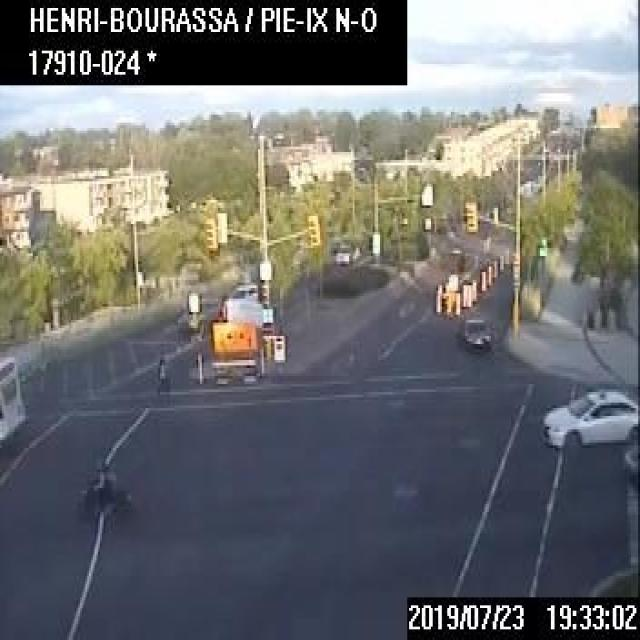bus: (0, 352, 25, 442)
construction: (193, 293, 269, 384), (433, 245, 465, 315), (478, 268, 486, 290), (460, 281, 466, 306), (434, 282, 439, 311), (470, 277, 476, 300), (486, 263, 492, 284), (454, 290, 459, 314), (466, 282, 471, 305), (491, 258, 496, 276), (497, 253, 502, 270)
pedestrian: (156, 354, 168, 386)
vehicle: (538, 387, 638, 448), (80, 456, 132, 518), (454, 315, 491, 349), (173, 304, 205, 340), (332, 240, 352, 264)
